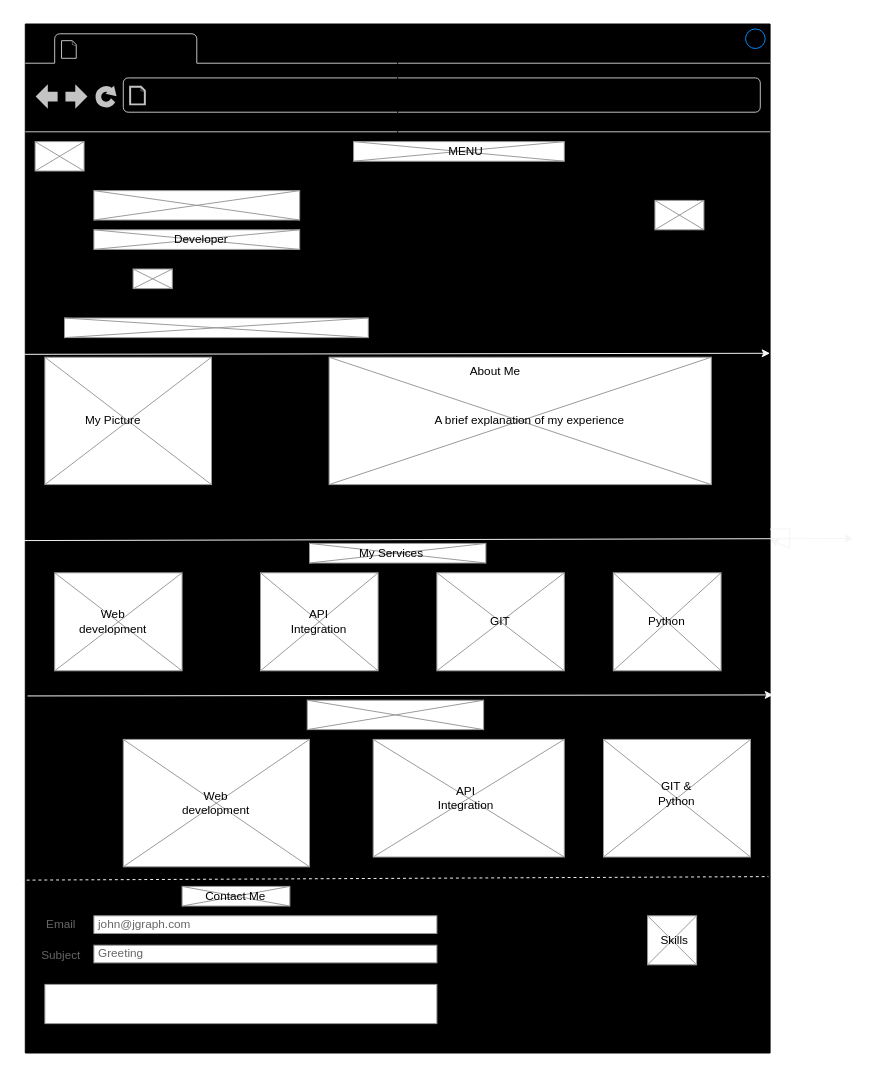
This 879x1070 diagram has some shape labels left out. The shapes that lost their labels are listed below. From the top down, each one's box as (x1, y1, x2, y2) in pixels, then its label:
(83, 35, 192, 61): Portfolio
(152, 82, 398, 108): https://www.ObedOduro_Portfolio.com
(34, 141, 84, 171): LOGO
(93, 190, 300, 220): Name
(654, 199, 704, 230): Picture
(132, 268, 172, 289): Cv
(64, 317, 368, 338): Social Media Links
(306, 699, 484, 730): Projects
